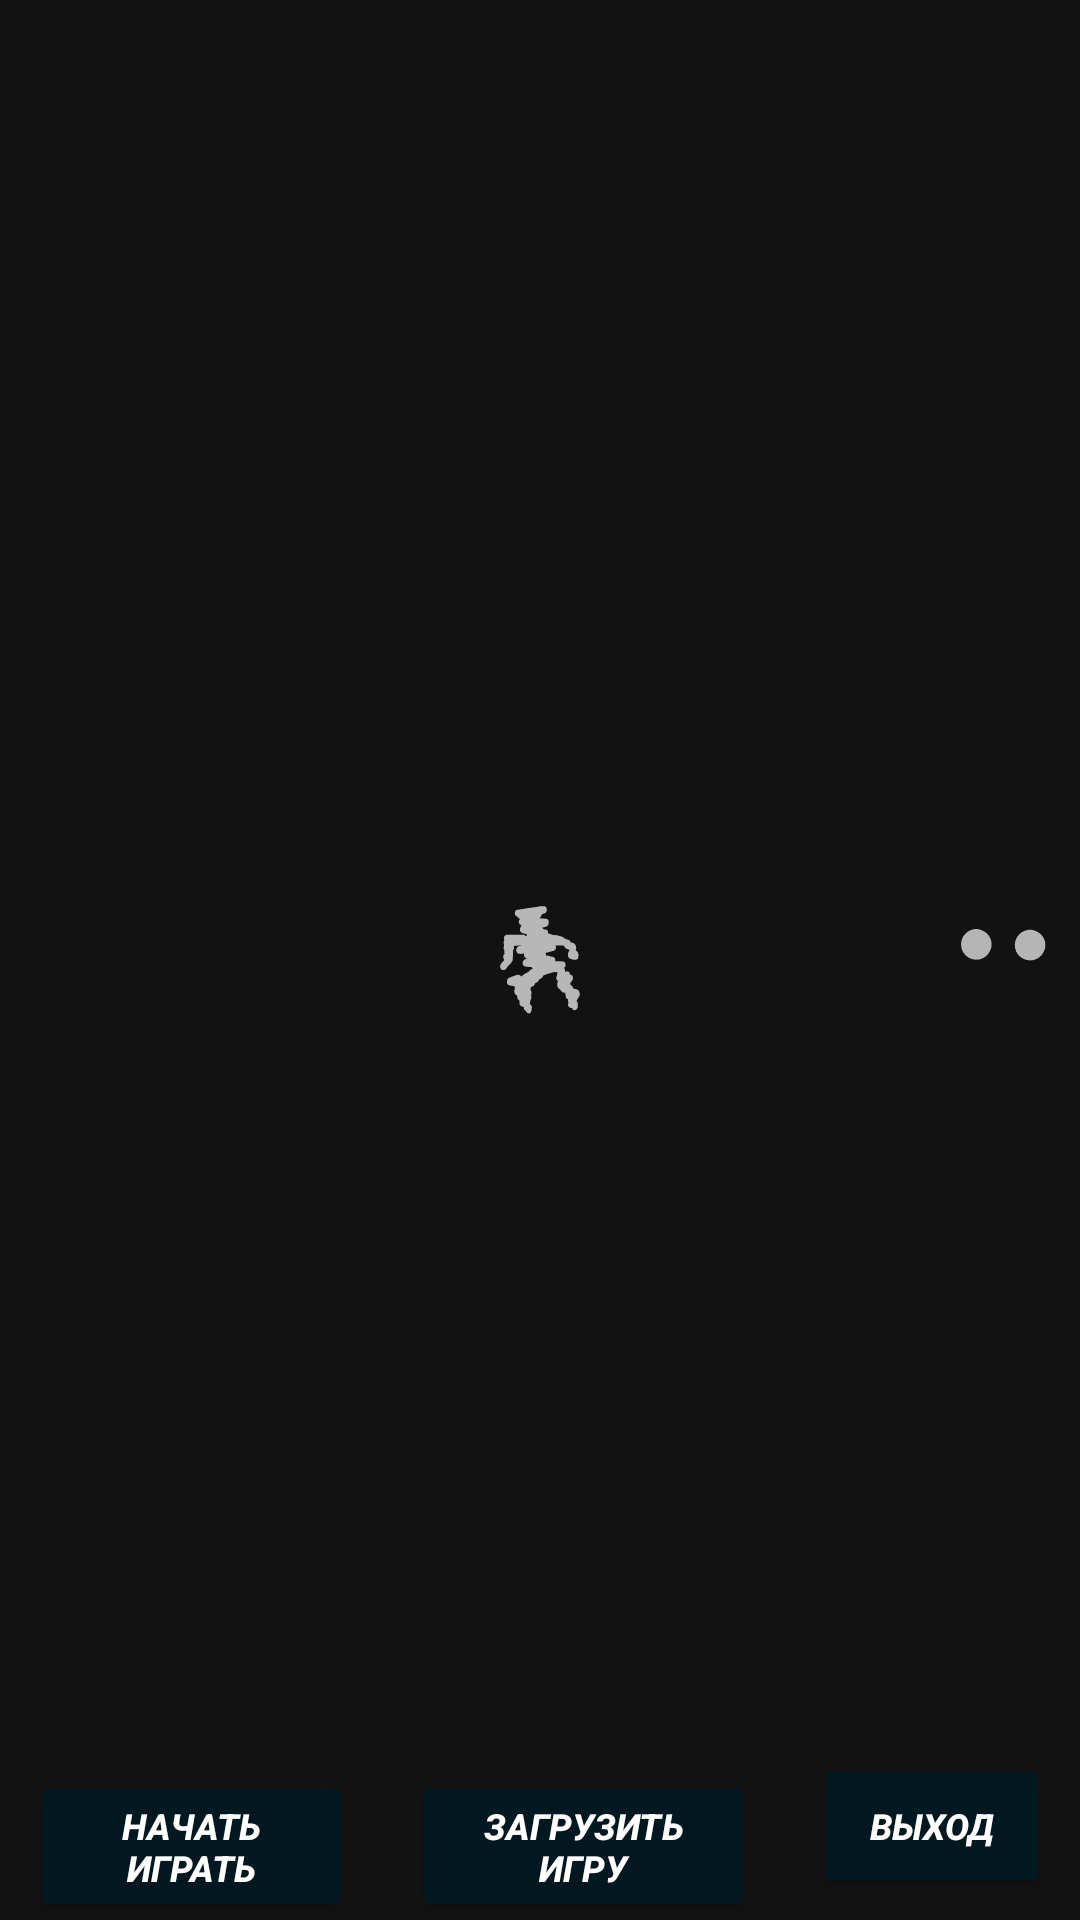

Icons on this 1080x1920 Android screen, each with its box as (x1, y1, x2, y2):
decor death person: (500, 906, 580, 1014)
decor eye: (961, 929, 1046, 961)
